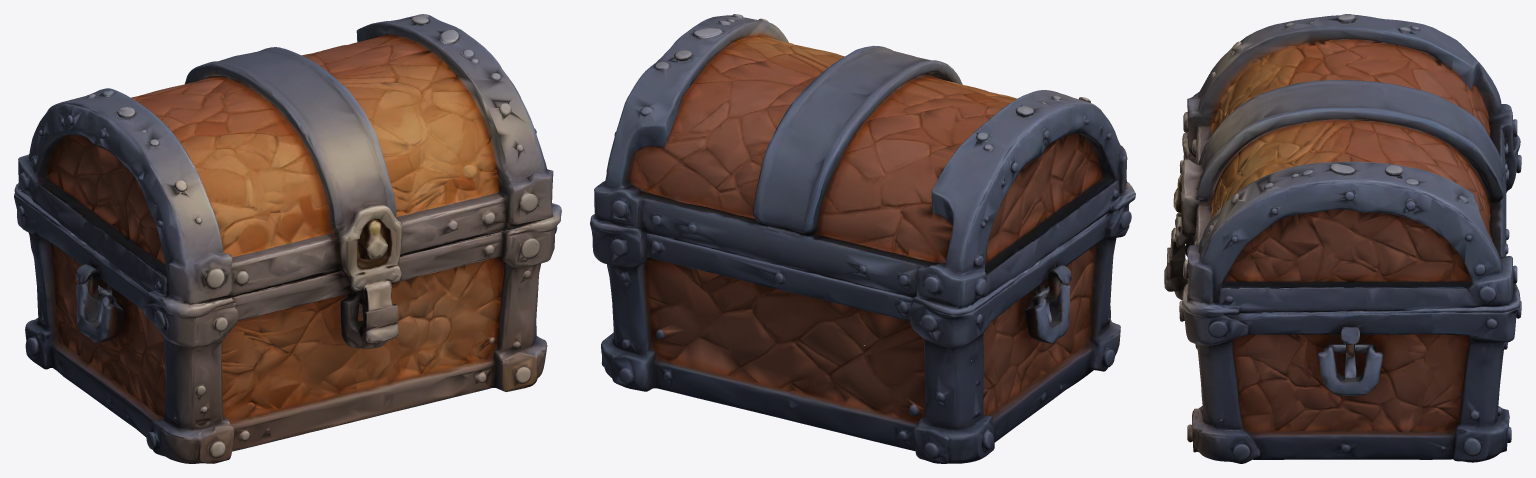
Rendered from treasure_chest_5000.glb.
3 renders of one model, left to right at view 1: azimuth 30°, elevation 25°; view 2: azimuth 150°, elevation 25°; view 3: azimuth 270°, elevation 25°, orthographic. The views are drawn at different scales.
Parts seen in each view (by area): view 1: tripo_node_caa8063d-a137-4744-8a37-f5a75146522c; view 2: tripo_node_caa8063d-a137-4744-8a37-f5a75146522c; view 3: tripo_node_caa8063d-a137-4744-8a37-f5a75146522c.
Boxes of the visible parts, box(x1,y1,x2,y2) form: tripo_node_caa8063d-a137-4744-8a37-f5a75146522c: box(14, 14, 561, 463); tripo_node_caa8063d-a137-4744-8a37-f5a75146522c: box(590, 14, 1135, 463); tripo_node_caa8063d-a137-4744-8a37-f5a75146522c: box(1164, 14, 1521, 463).
Bounding box in the file's own units: 0.9851 × 0.6777 × 0.7683.
1 material, 1 textured.
